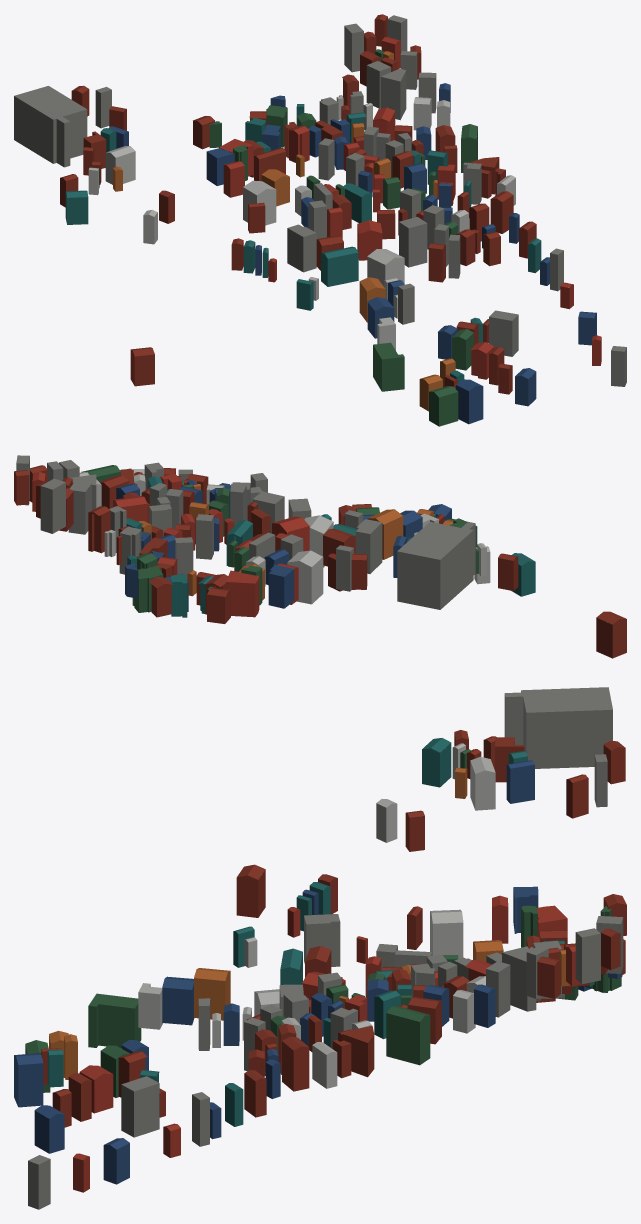
Rendered from near-17-109442-59482.7b37b659.glb.
3 views of the same model, one above another, from view 1: azimuth 30°, elevation 25°; view 2: azimuth 150°, elevation 25°; view 3: azimuth 270°, elevation 25° (orthographic). The views are drawn at different scales.
Size of the model in its own units: 297 by 150 by 298.
